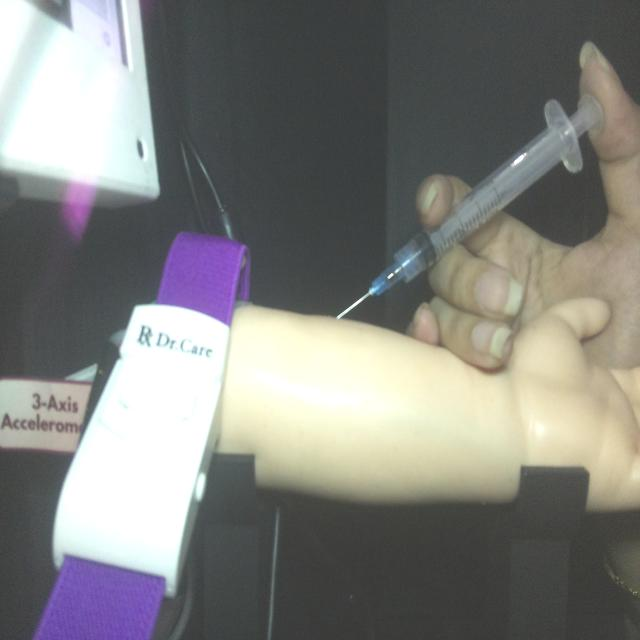30 degrees: (333, 89, 604, 322)
